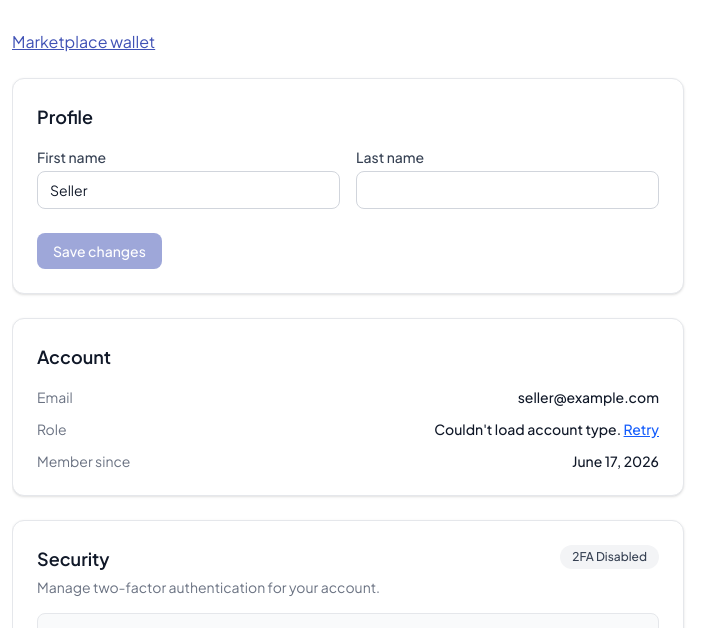
it: SettingsPage capability refresh › offers a retry instead of Buyer when capabilities fail, then shows Seller
Click the button "Retry".
click(641, 429)  # box [624,419,659,439]
(page scrolled)
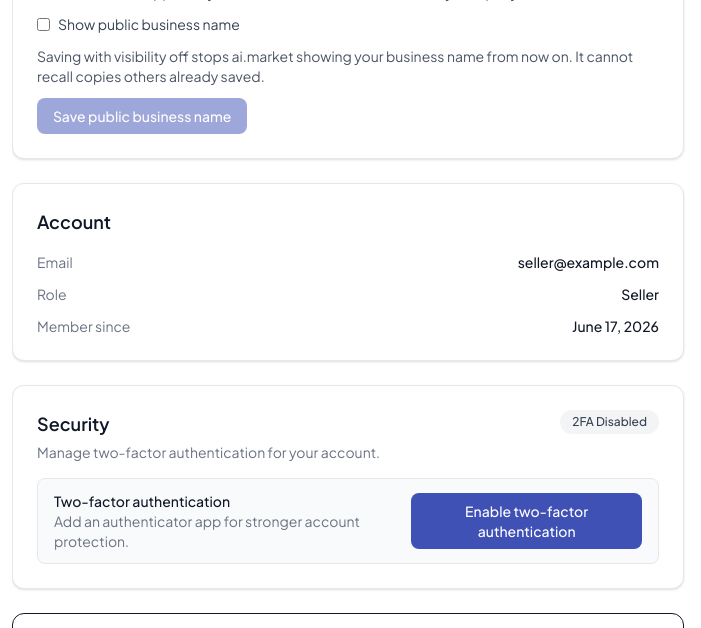
Result: the text "Seller" is shown at [621,284,659,304]
